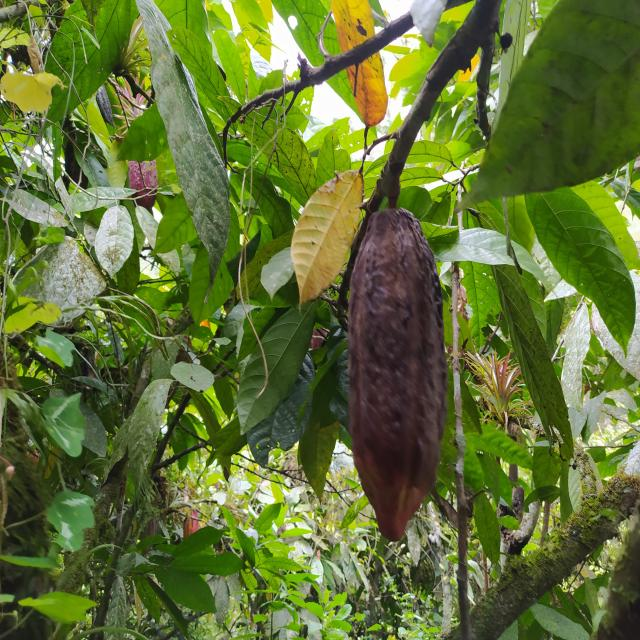Fitoftora: (346, 200, 449, 543)
